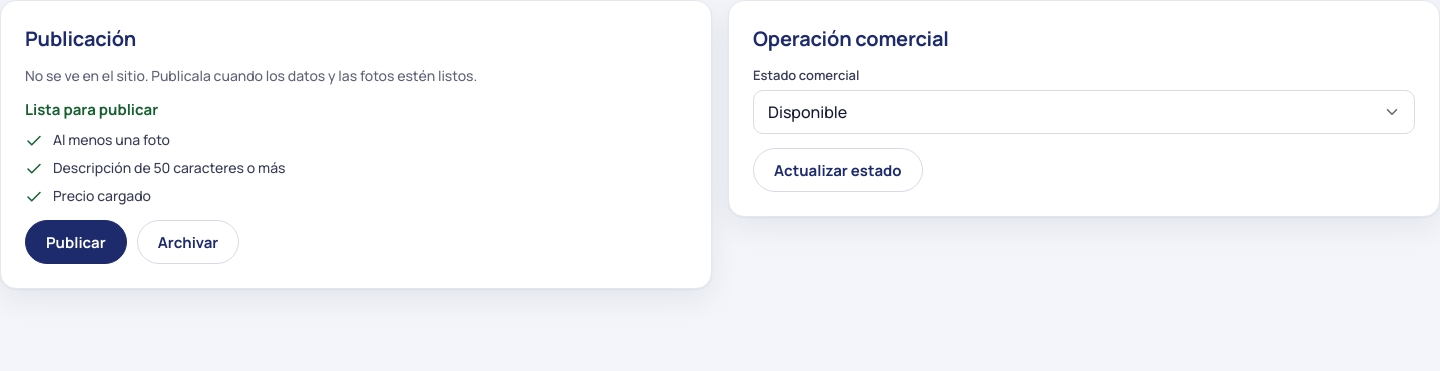
Test: PropertyStatusPanel › offers the transitions of the current status and sends the chosen one
Check: the button "Archivar" is shown, box [137,220,239,264]
What coordinates should you click on to do the following:
click the button "Publicar"
I would click on:
 (76, 242)
Its box is [25,220,127,264].
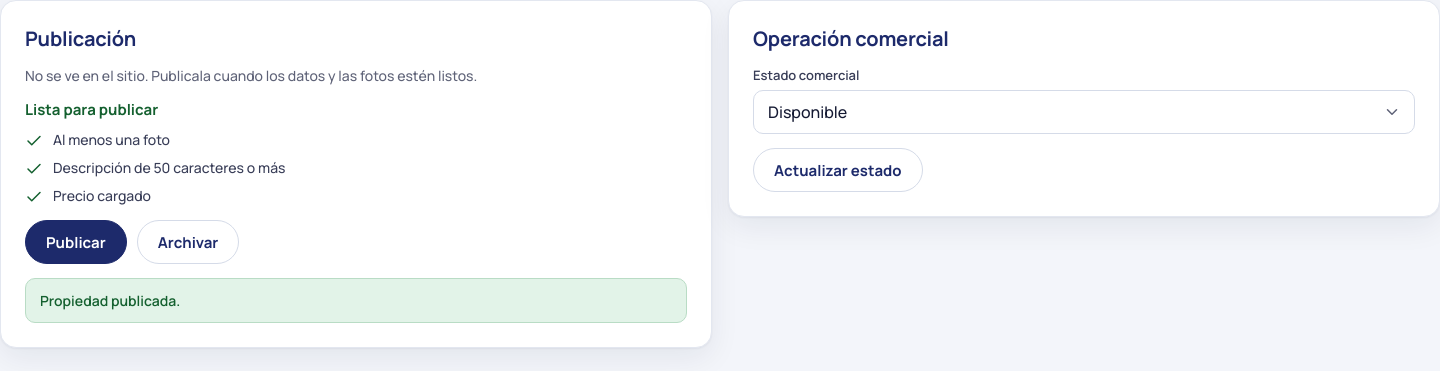
Check: the message reads "Propiedad publicada.", box [40,291,180,310]
